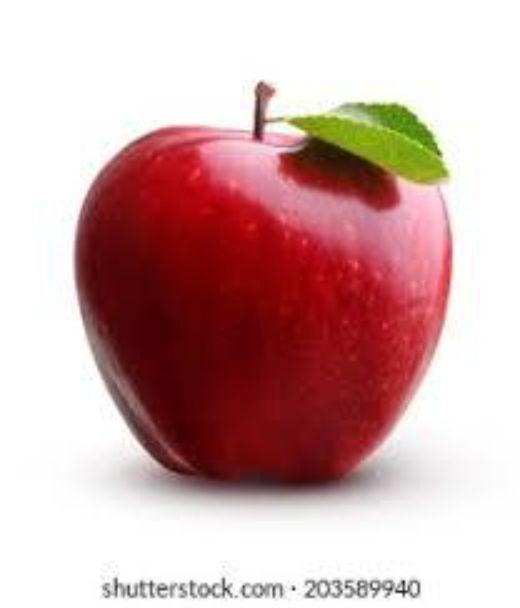HEALTHY: (53, 74, 470, 503)
